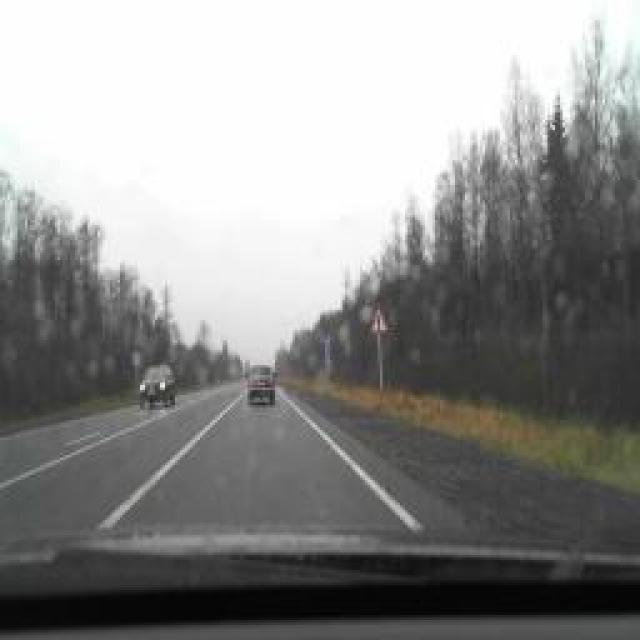sign: (370, 304, 390, 334)
